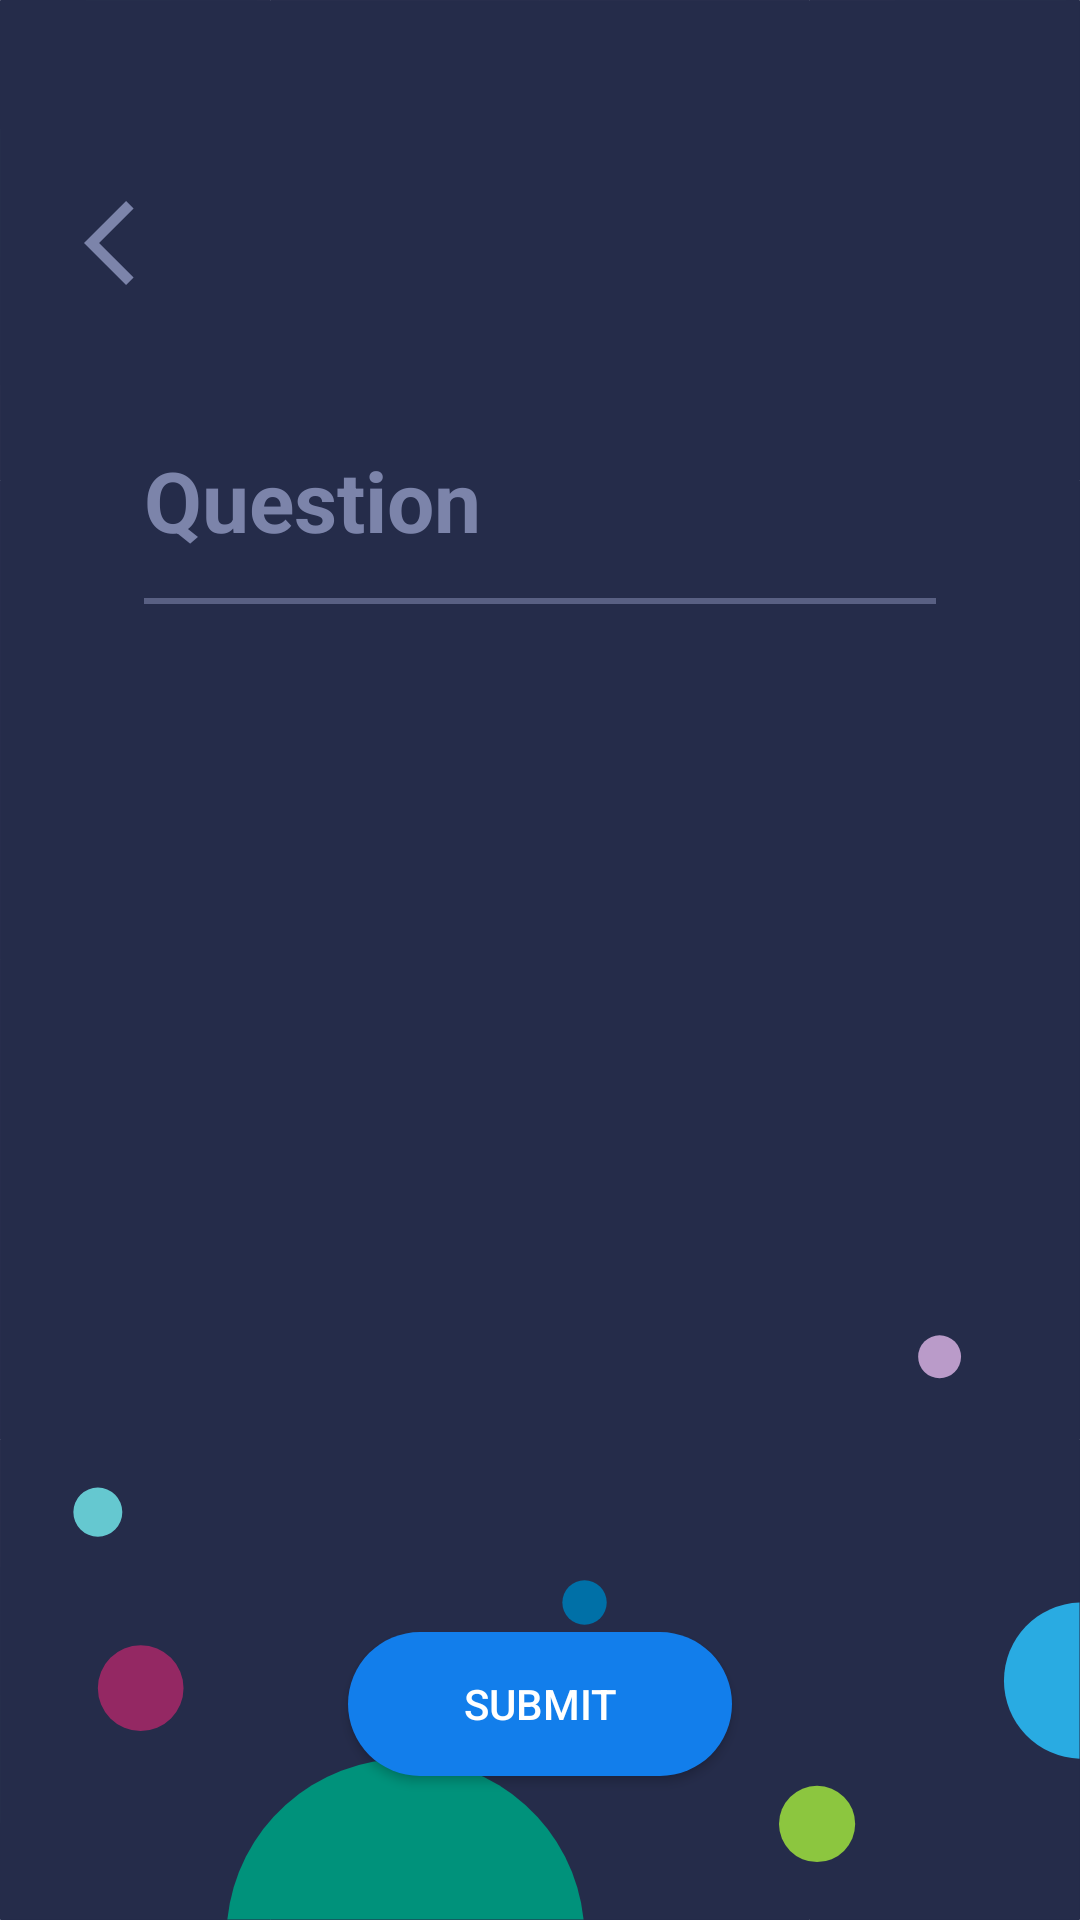

Where icons sit on this 1080 x 1920 app screen, as detection(x1, y1, x2, y2):
arrow back: detection(84, 201, 134, 285)
